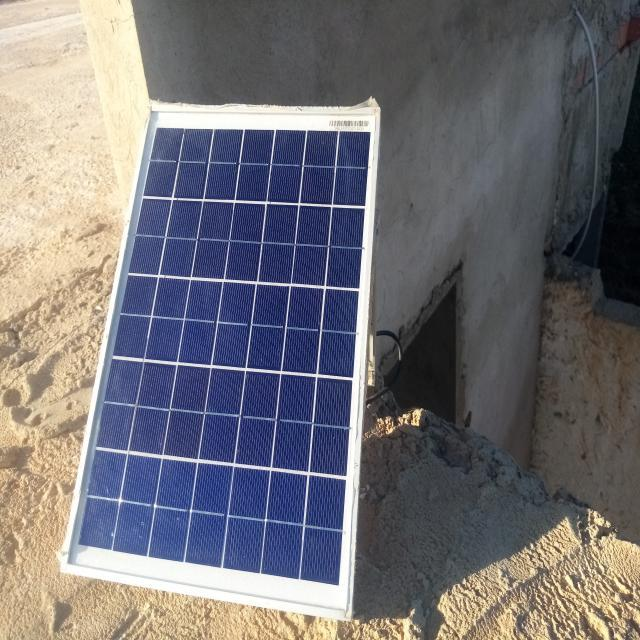no faulty: (62, 105, 378, 617)
